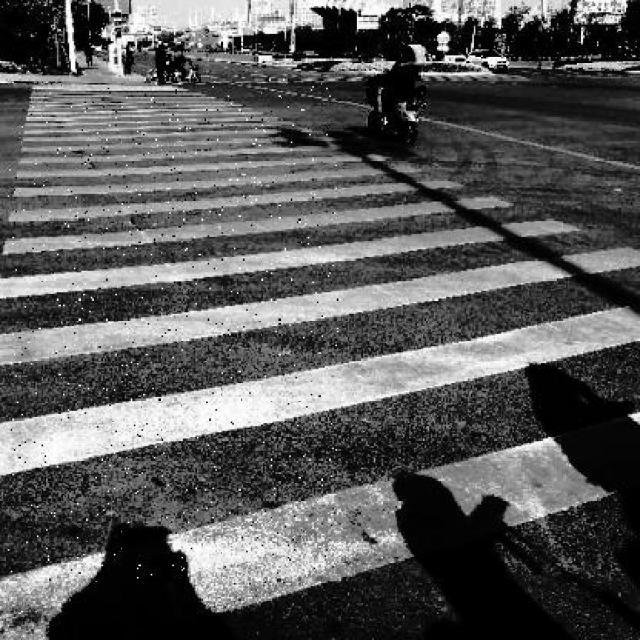intact_crosswalk: (0, 90, 637, 640)
